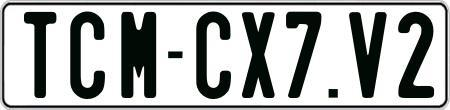2: (398, 10, 438, 100)
7: (284, 10, 319, 101)
C: (69, 12, 110, 101), (195, 11, 236, 100)
M: (120, 11, 158, 100)
T: (24, 12, 60, 101)
V: (348, 10, 390, 96)
X: (240, 10, 279, 100)
